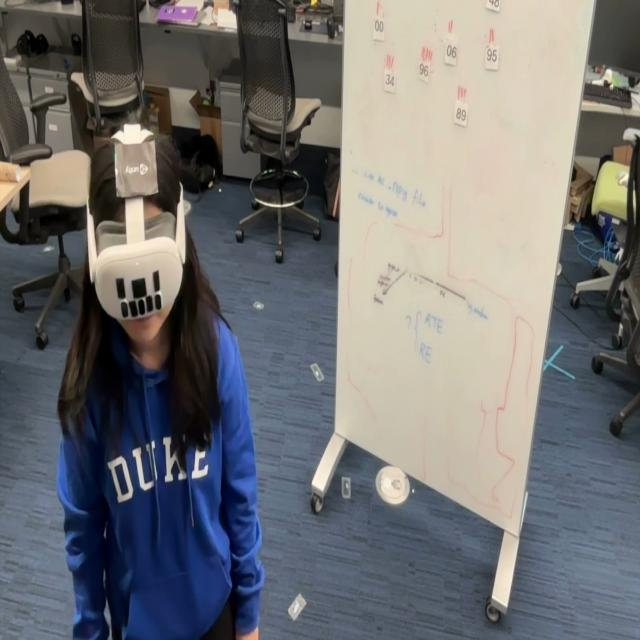UnityLogo: (113, 138, 158, 198)
